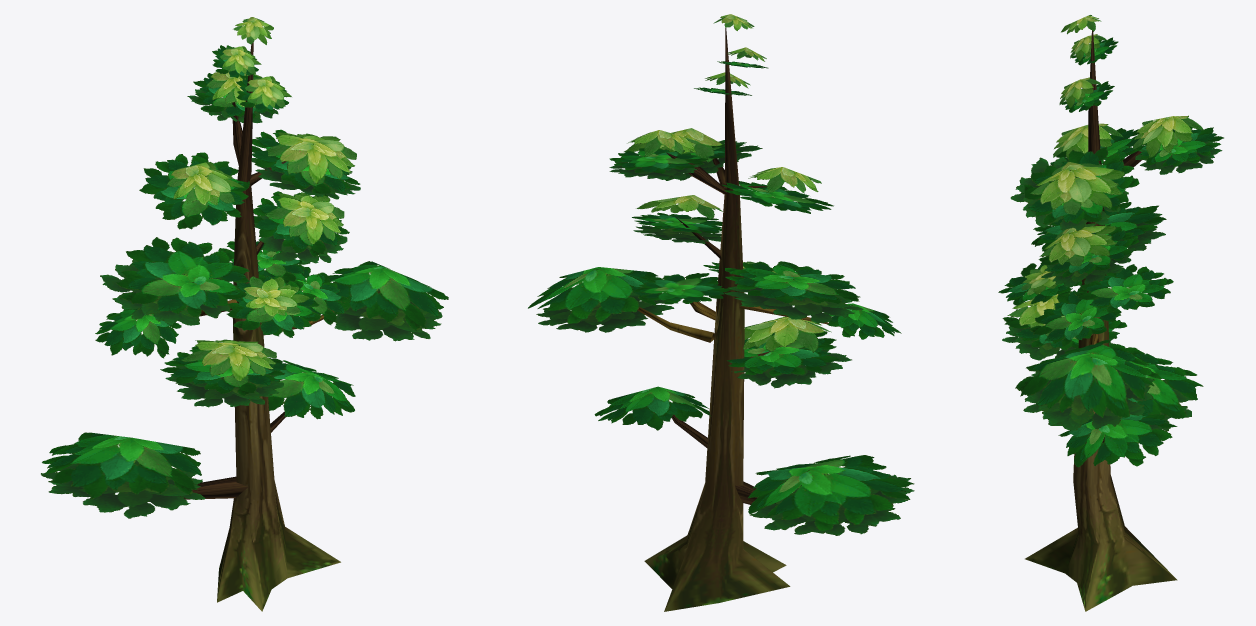
Rendered from loyalismwood_tree01.FBX.
3 views of the same model, side by side, from view 1: azimuth 30°, elevation 25°; view 2: azimuth 150°, elevation 25°; view 3: azimuth 270°, elevation 25° (orthographic). The views are drawn at different scales.
Parts seen in each view (by area): view 1: loyalismwood_tree01; view 2: loyalismwood_tree01; view 3: loyalismwood_tree01.
Boxes of the visible parts, left/top/right/bottom form: loyalismwood_tree01: left=41, top=17, right=448, bottom=611; loyalismwood_tree01: left=528, top=14, right=914, bottom=611; loyalismwood_tree01: left=998, top=15, right=1223, bottom=611.
Bounding box in the file's own units: 1025 × 555 × 1283.
